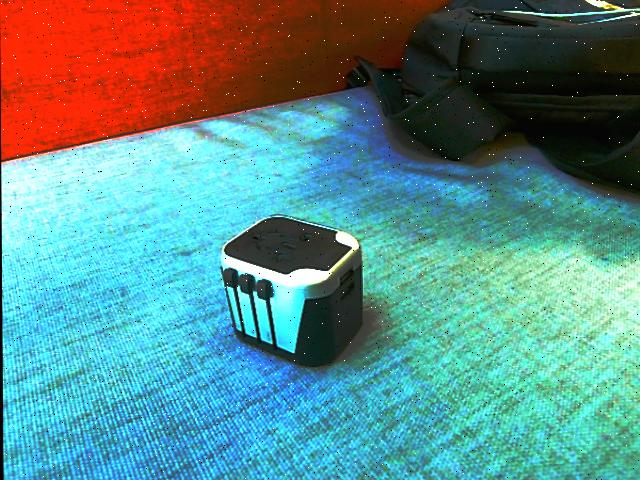adapter: (218, 215, 363, 367)
